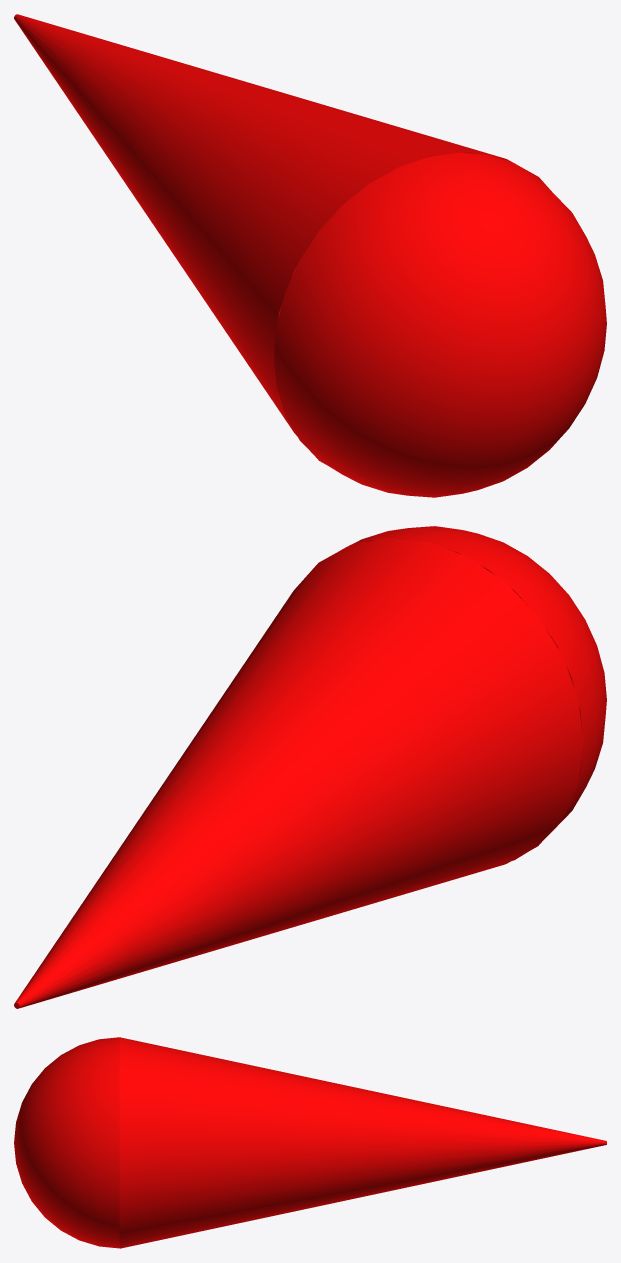
File: icecream.fbx
3 renders of one model, top to bottom at view 1: azimuth 30°, elevation 25°; view 2: azimuth 150°, elevation 25°; view 3: azimuth 270°, elevation 25°, orthographic. The views are drawn at different scales.
Parts seen in each view (by area): view 1: icecream; view 2: icecream; view 3: icecream.
Part boxes in pixels (x1=…): icecream: x1=14, y1=14, x2=606, y2=497; icecream: x1=14, y1=526, x2=606, y2=1008; icecream: x1=14, y1=1037, x2=606, y2=1248.
Size of the model in its own units: 269 by 269 by 753.
